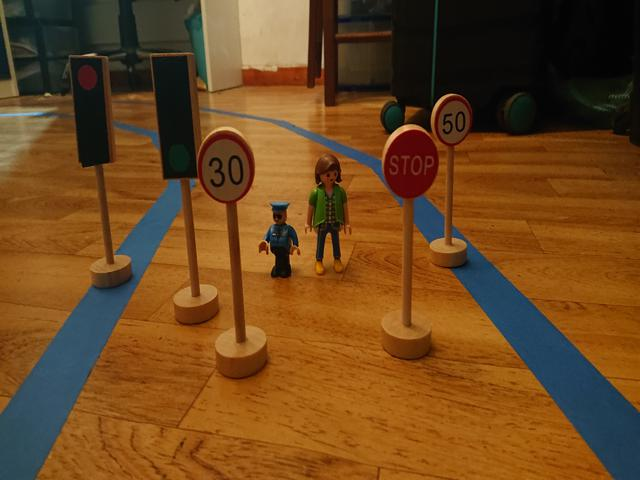30 speed sign: (198, 130, 254, 205)
50 speed sign: (434, 93, 472, 146)
green light: (157, 61, 191, 176)
person: (303, 153, 351, 277), (260, 200, 301, 281)
red light: (72, 58, 103, 159)
stop sign: (382, 129, 439, 199)
